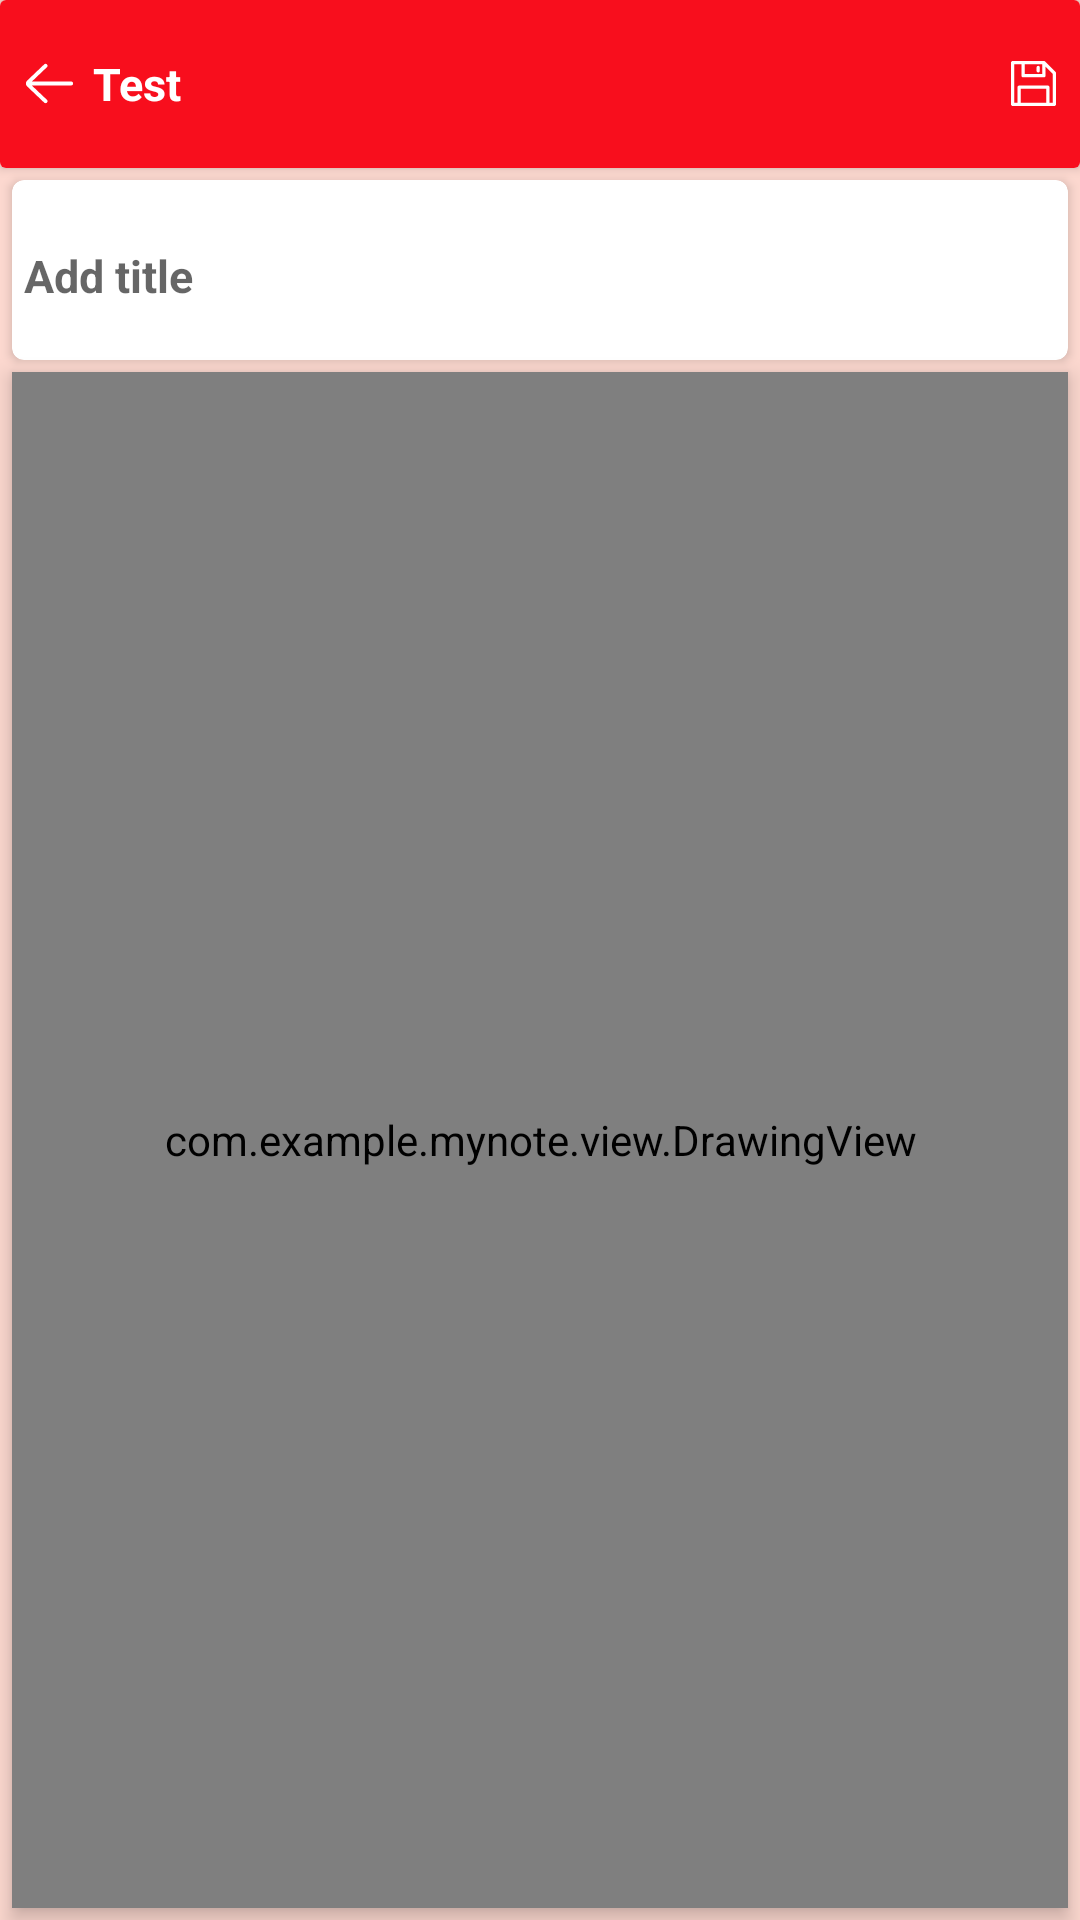

Icons on this 1080w x 1920h Android screen, each with its box as (left=x1, top=y1, right=x2, bottom=y2):
back: (left=26, top=63, right=73, bottom=104)
save: (left=1011, top=61, right=1056, bottom=106)
